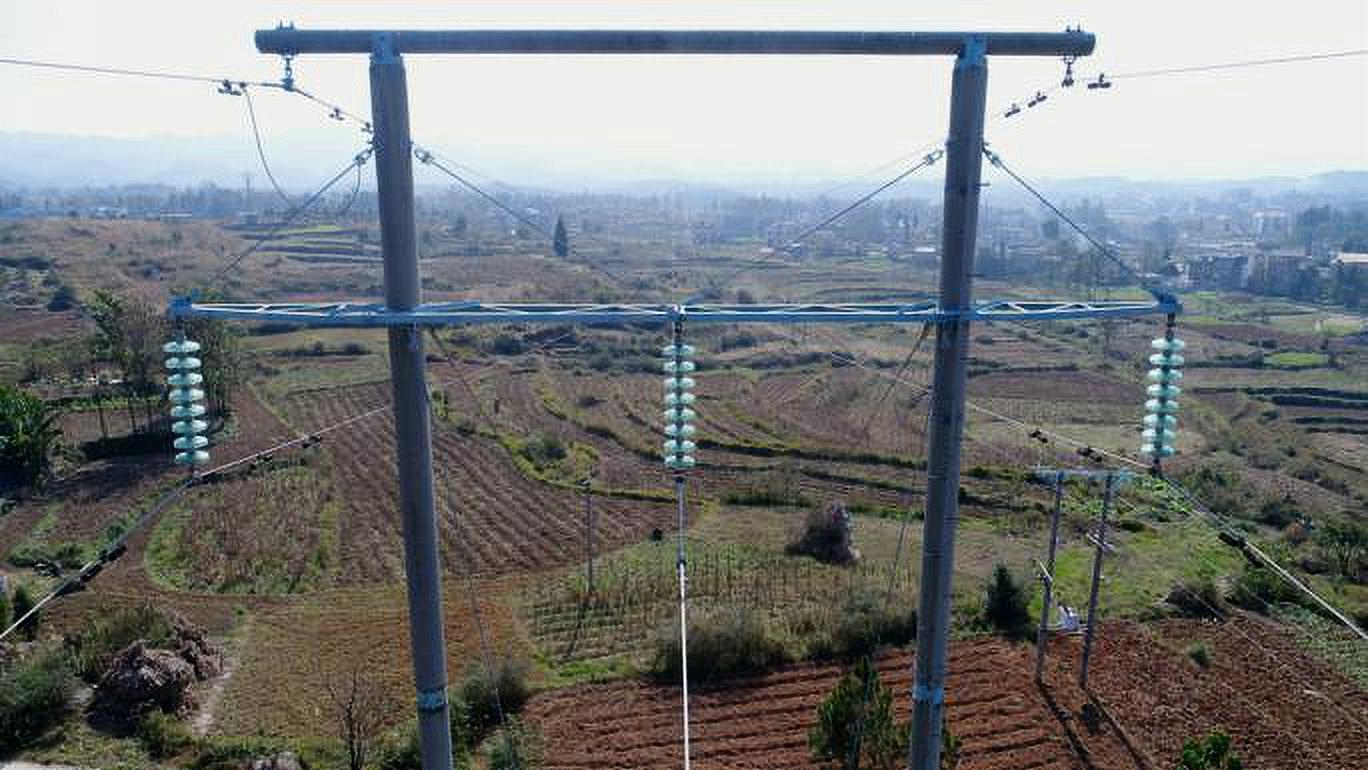insulator: (160, 338, 212, 468), (1137, 334, 1189, 461), (657, 340, 699, 474)
